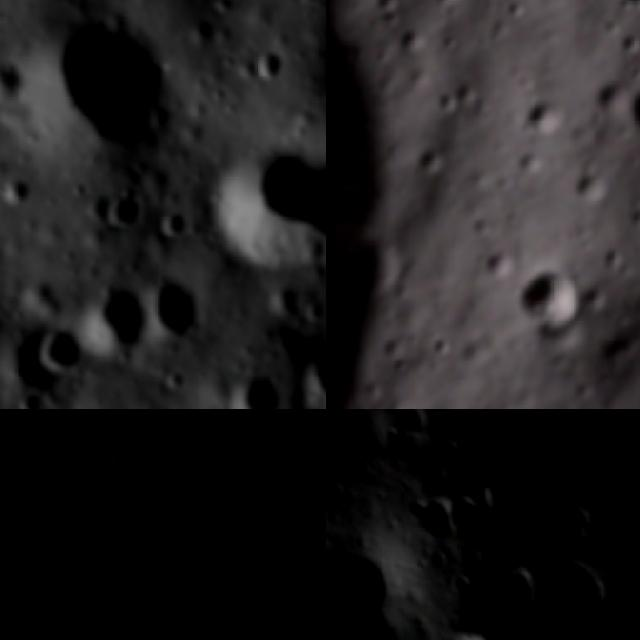crater: (29, 10, 180, 157), (211, 129, 326, 278), (526, 540, 621, 640), (326, 538, 414, 640), (514, 260, 587, 342), (403, 483, 468, 558), (137, 269, 200, 341), (166, 549, 234, 615), (85, 284, 147, 349), (98, 416, 158, 480), (442, 480, 496, 544), (32, 316, 90, 372), (224, 361, 287, 409), (295, 330, 326, 409), (204, 409, 250, 462), (241, 409, 285, 458), (522, 97, 567, 144), (101, 180, 144, 227), (12, 554, 52, 600), (387, 409, 435, 441), (619, 72, 640, 143), (211, 459, 246, 497), (574, 171, 610, 207), (66, 536, 102, 572), (99, 606, 137, 640), (107, 564, 139, 600), (411, 146, 447, 177), (0, 55, 24, 98), (326, 425, 342, 488), (428, 85, 459, 117), (0, 497, 24, 536), (213, 567, 238, 600), (398, 27, 430, 52), (302, 609, 326, 640), (500, 0, 531, 21), (615, 34, 640, 58), (378, 12, 410, 29), (430, 337, 454, 359), (457, 82, 477, 108), (369, 0, 406, 14), (486, 28, 508, 48), (625, 203, 640, 232), (442, 32, 462, 52), (618, 0, 640, 18), (603, 17, 621, 39), (429, 0, 475, 8), (42, 409, 71, 421), (627, 66, 640, 85)
